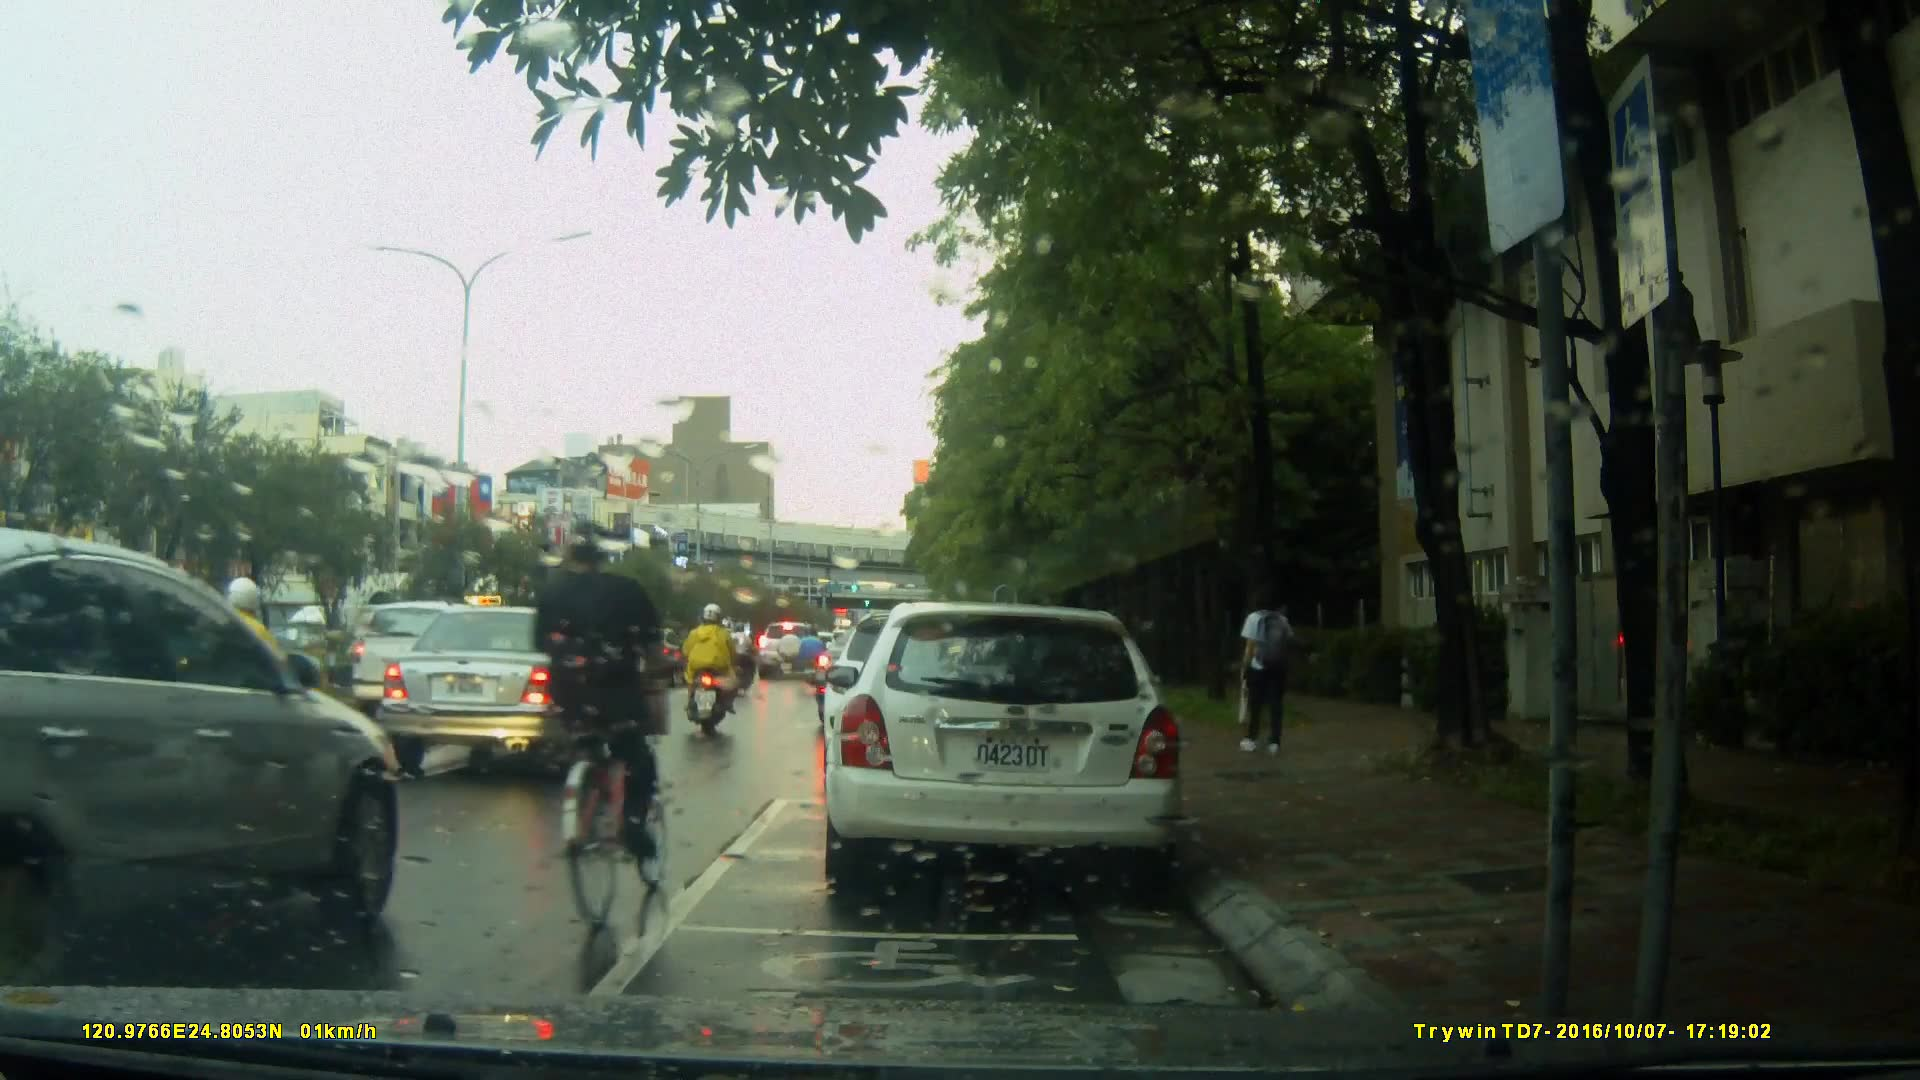pedestrian: (1238, 578, 1301, 758)
rider: (532, 515, 672, 935), (681, 598, 745, 742), (717, 616, 748, 702), (802, 619, 830, 701)
vehicle: (2, 528, 399, 987), (820, 602, 1188, 898), (378, 603, 648, 776), (349, 600, 532, 716)
